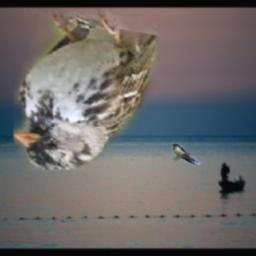Sparrow: (14, 8, 158, 170)
Swallow: (173, 144, 203, 166)
